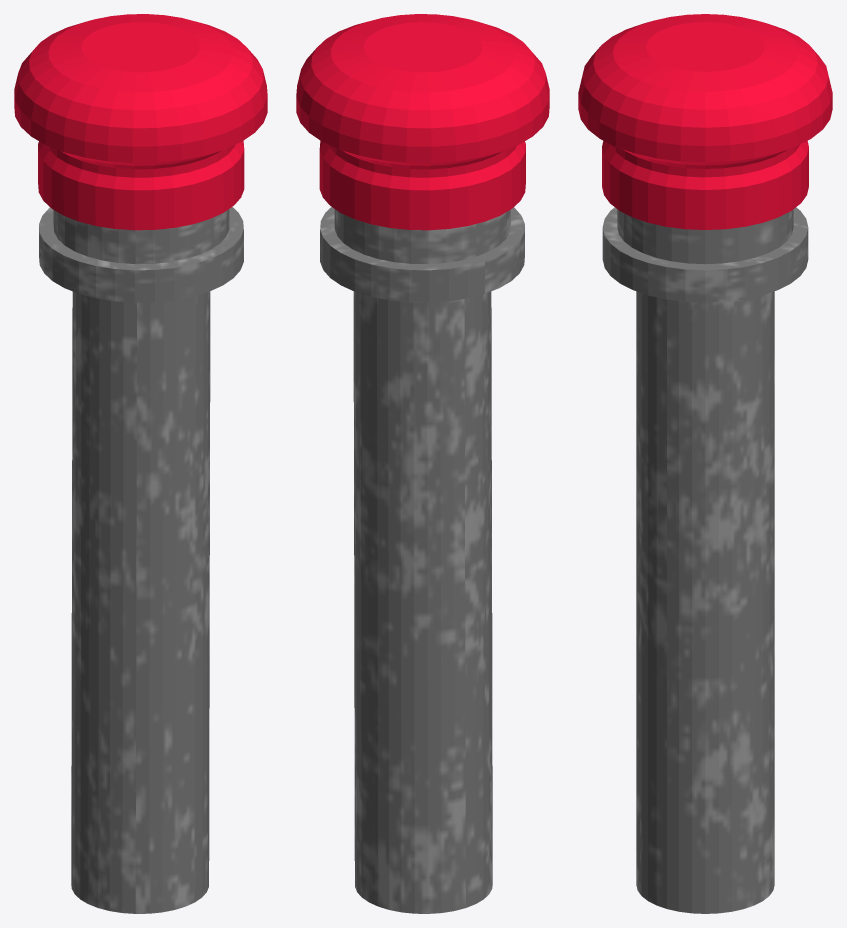
Rendered from Lever.obj.
3 views of the same model, side by side, from view 1: azimuth 30°, elevation 25°; view 2: azimuth 150°, elevation 25°; view 3: azimuth 270°, elevation 25° (orthographic).
Visible parts, largest first — view 1: Tirador.001; view 2: Tirador.001; view 3: Tirador.001.
Part boxes in pixels (bbox=[...]): Tirador.001: bbox=[14, 14, 267, 913]; Tirador.001: bbox=[296, 14, 549, 913]; Tirador.001: bbox=[578, 14, 832, 913].
Size of the model in its own units: 3.85 by 14.01 by 3.85.
